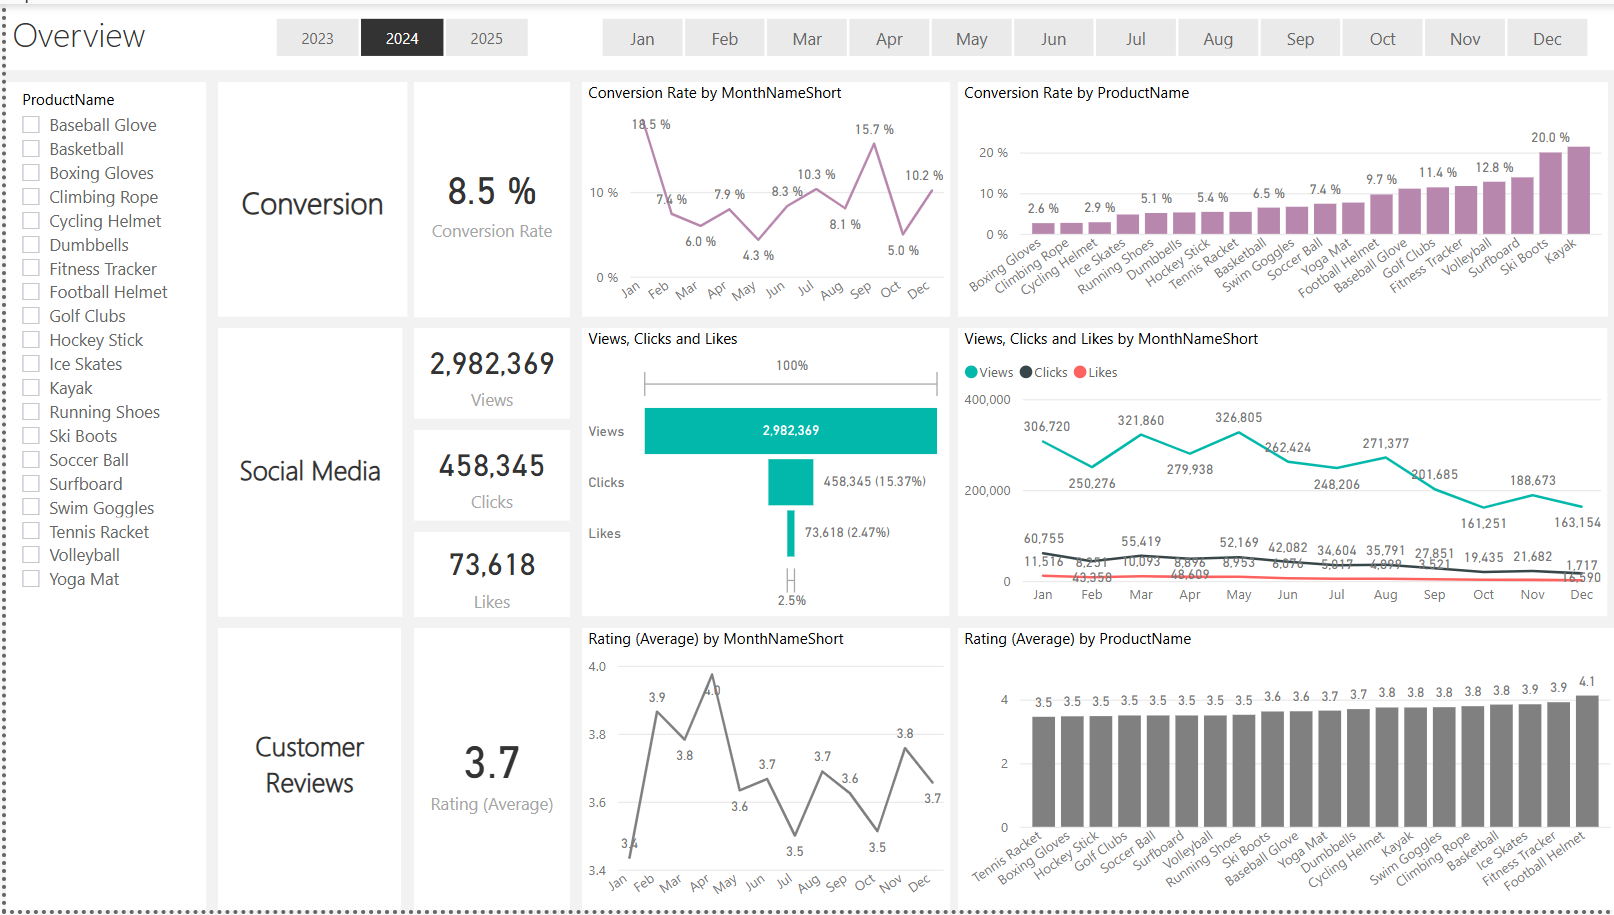

What the dashboard file says about the page in this screenshot:
{"tool":"powerbi","page":{"name":"Overview","canvas":[1280,720],"ordinal":0},"visuals":[{"type":"textbox","box":[0,0,1280,52.6],"z":0},{"type":"slicer","fields":{"Values":["dim_products.ProductName"]},"box":[0,62,158.9,658],"z":1000},{"type":"card","fields":{"Values":["_Calculations.Conversion Rate"]},"box":[324.1,61.9,123.9,186.8],"z":2000},{"type":"card","fields":{"Values":["_Calculations.Rating (Average)"]},"box":[324.1,496.5,123.9,224],"z":3000},{"type":"lineChart","fields":{"Y":["_Calculations.Conversion Rate"],"Category":["Calendar.MonthNameShort"]},"box":[457.1,61.9,292.3,186.7],"z":4000},{"type":"columnChart","fields":{"Category":["dim_products.ProductName"],"Y":["_Calculations.Conversion Rate"]},"box":[756.7,61.9,516.3,186.7],"z":5000},{"type":"slicer","fields":{"Values":["Calendar.Year"]},"box":[189.4,4.6,249.5,43.7],"z":6000},{"type":"slicer","fields":{"Values":["Calendar.MonthNameShort"]},"box":[448,4.6,832.3,43.7],"z":7000},{"type":"lineChart","fields":{"Y":["_Calculations.Views","_Calculations.Clicks","_Calculations.Likes"],"Category":["Calendar.MonthNameShort"]},"box":[756.6,258.1,516.1,229.2],"z":8000},{"type":"lineChart","fields":{"Category":["Calendar.MonthNameShort"],"Y":["_Calculations.Rating (Average)"]},"box":[457.1,496.3,292.3,224],"z":9000},{"type":"columnChart","fields":{"Category":["dim_products.ProductName"],"Y":["_Calculations.Rating (Average)"]},"box":[756.6,496.5,523.4,224],"z":10000},{"type":"funnel","fields":{"Y":["_Calculations.Views","_Calculations.Clicks","_Calculations.Likes"]},"box":[457.3,258.1,292.1,229.2],"z":11000},{"type":"card","fields":{"Values":["_Calculations.Views"]},"box":[324.2,257.7,123.8,71.9],"z":12000},{"type":"textbox","box":[168.5,61.9,150.3,186.7],"z":13000},{"type":"textbox","box":[168.5,257.7,146.6,229.5],"z":14000},{"type":"textbox","box":[168.5,496.3,145.7,224],"z":15000},{"type":"card","fields":{"Values":["_Calculations.Clicks"]},"box":[324.2,338.8,123.8,71.9],"z":16000},{"type":"card","fields":{"Values":["_Calculations.Likes"]},"box":[324.2,419.8,123.8,67.4],"z":17000}]}

Visuals, with their boxes in screenshot pixels (x1, y1, x2, y2), scaled from the page's 1280x720 canvas onto the 1614x915 screenshot:
textbox: 0,0,1613,67
slicer - dim_products.ProductName: 0,79,200,914
card - _Calculations.Conversion Rate: 409,79,565,316
card - _Calculations.Rating (Average): 409,631,565,914
lineChart - _Calculations.Conversion Rate x Calendar.MonthNameShort: 576,79,945,316
columnChart - dim_products.ProductName x _Calculations.Conversion Rate: 954,79,1605,316
slicer - Calendar.Year: 239,6,553,61
slicer - Calendar.MonthNameShort: 565,6,1613,61
lineChart - _Calculations.Views x _Calculations.Clicks: 954,328,1605,619
lineChart - Calendar.MonthNameShort x _Calculations.Rating (Average): 576,631,945,914
columnChart - dim_products.ProductName x _Calculations.Rating (Average): 954,631,1613,914
funnel - _Calculations.Views x _Calculations.Clicks: 577,328,945,619
card - _Calculations.Views: 409,327,565,419
textbox: 212,79,402,316
textbox: 212,327,397,619
textbox: 212,631,396,914
card - _Calculations.Clicks: 409,431,565,522
card - _Calculations.Likes: 409,533,565,619
